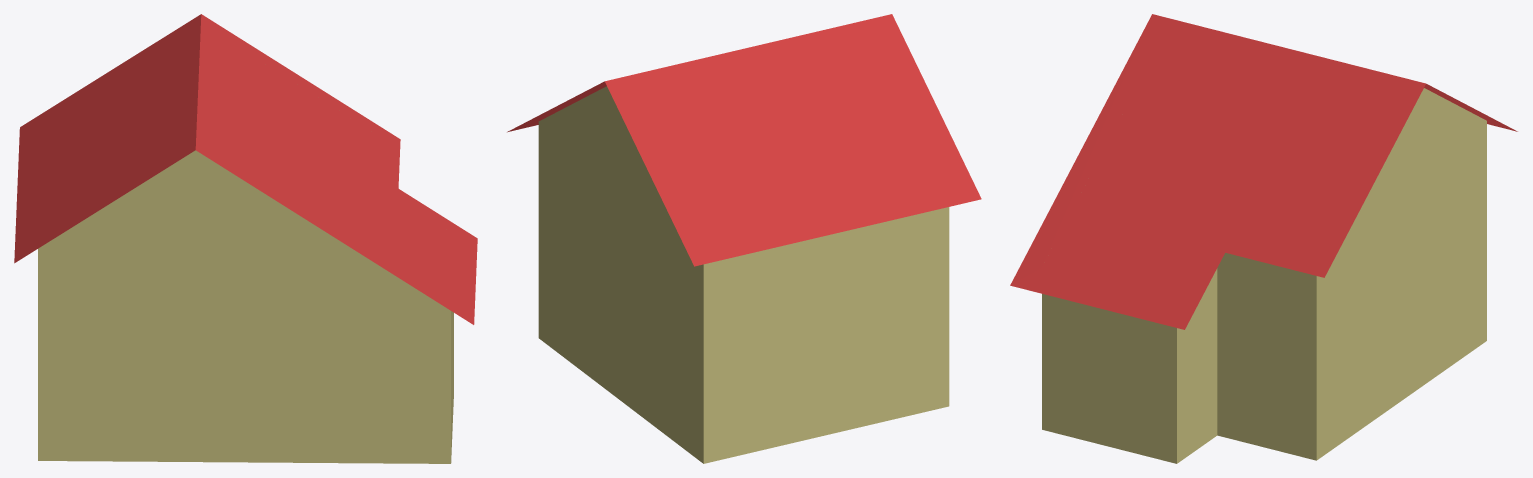
The picture shows the model from 3 angles, left to right: view 1: azimuth 30°, elevation 25°; view 2: azimuth 150°, elevation 25°; view 3: azimuth 270°, elevation 25°; orthographic projection. The views are drawn at different scales.
Size of the model in its own units: 16.03 by 16.45 by 11.38.
